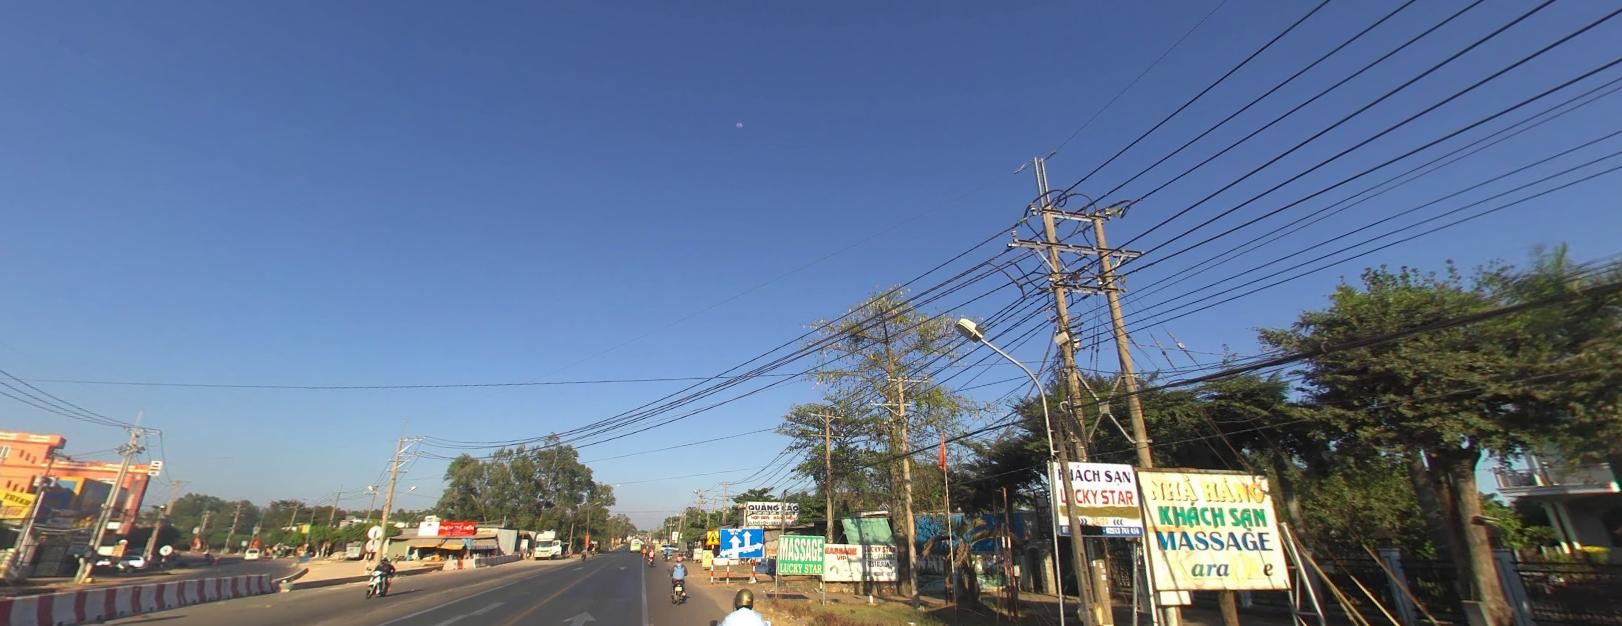Nguy hiem: (703, 530, 720, 544)
